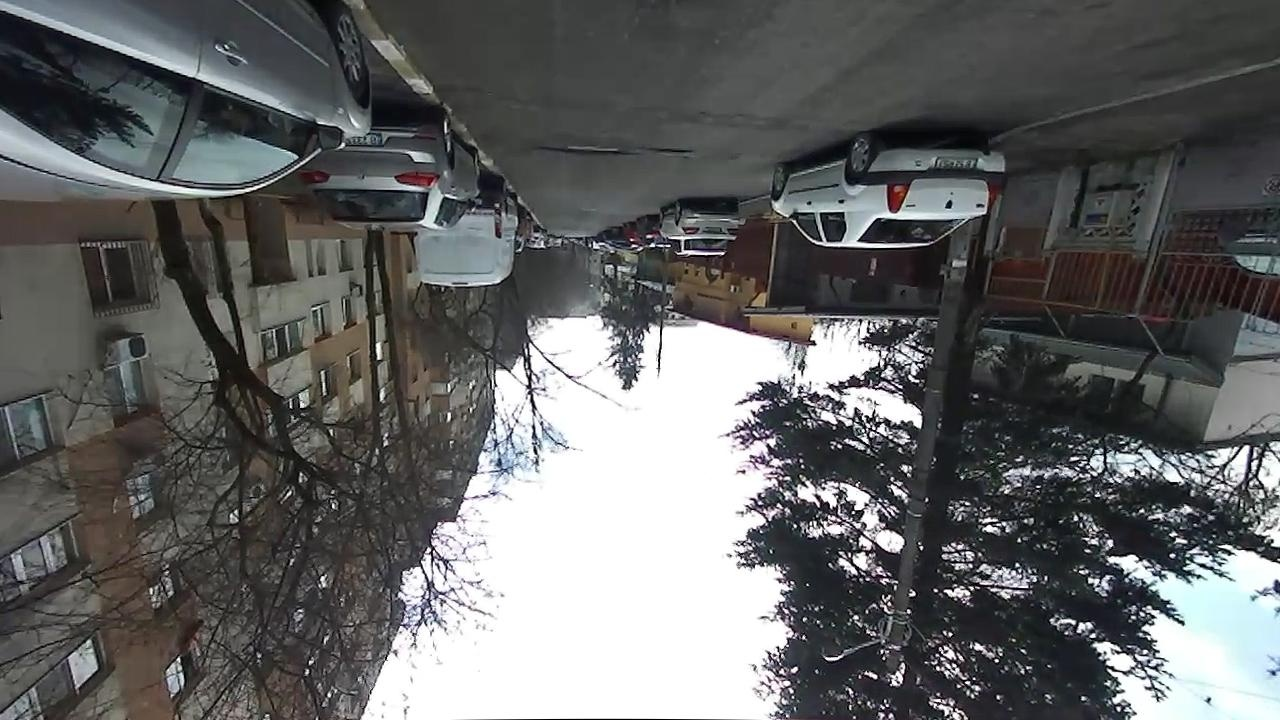pothole: (538, 144, 627, 156), (647, 147, 692, 154)
